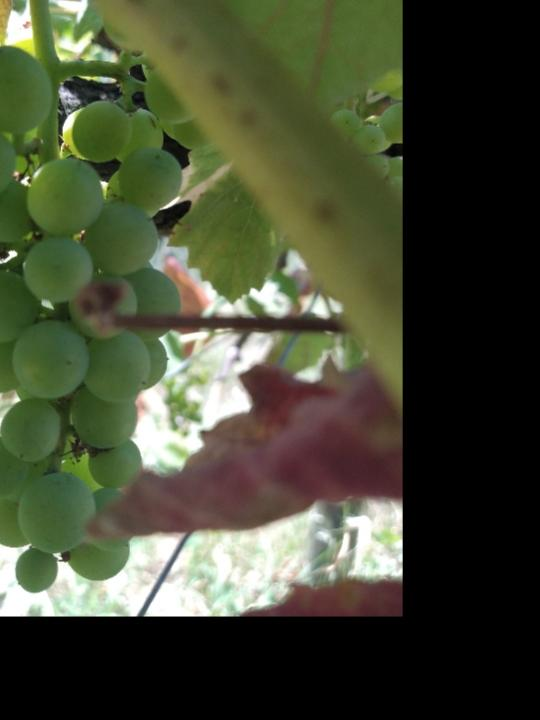grape: (0, 46, 183, 597)
